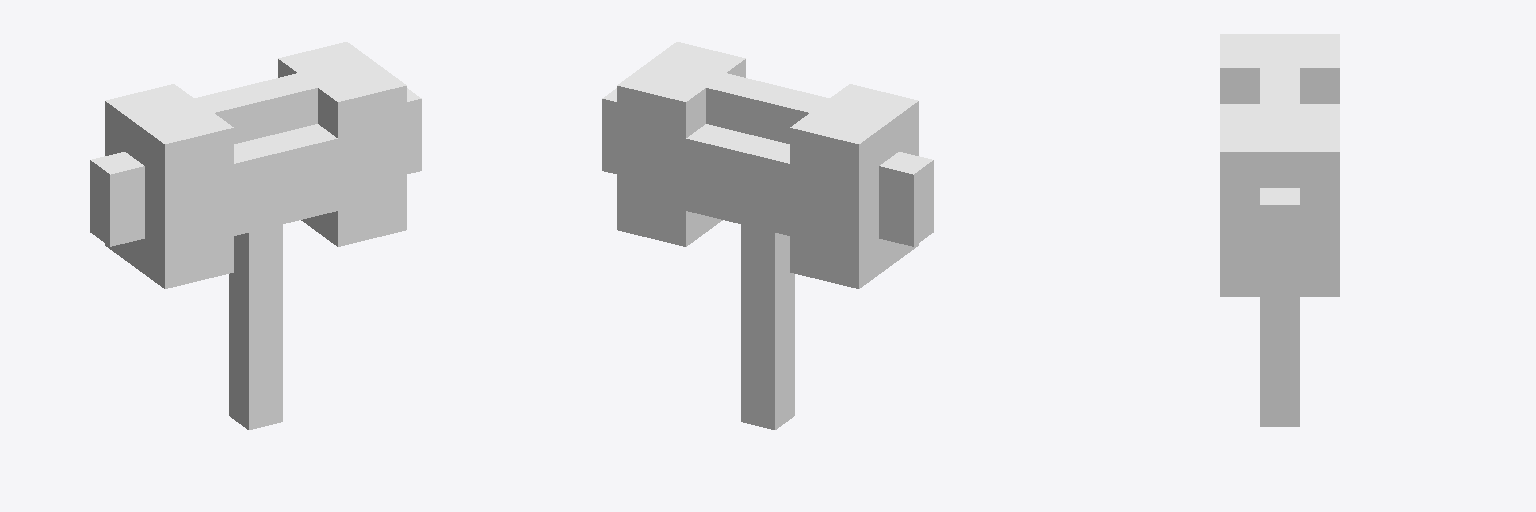
The model's file is martillo.obj.
3 views of the same model, side by side, from view 1: azimuth 30°, elevation 25°; view 2: azimuth 150°, elevation 25°; view 3: azimuth 270°, elevation 25° (orthographic).
Visible parts, largest first — view 1: object 1; view 2: object 1; view 3: object 1.
Part boxes in pixels (x1,y1,x2,y2): object 1: (90, 42, 421, 429); object 1: (602, 42, 933, 429); object 1: (1220, 34, 1339, 426).
Bounding box in the file's own units: 0.9 × 0.9 × 0.3.